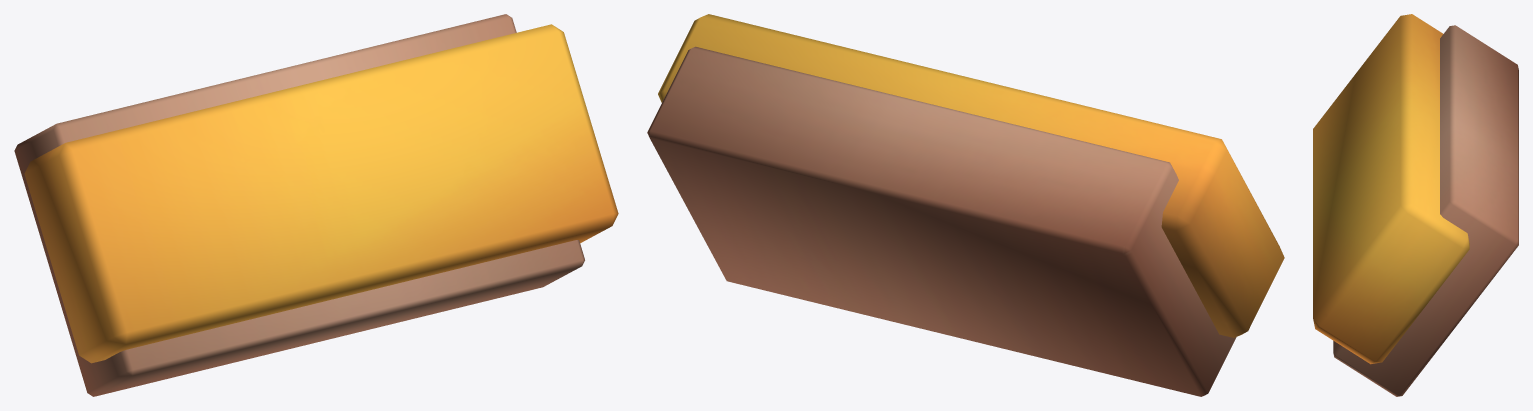
The model's file is FeltEraser.fbx.
The picture shows the model from 3 angles, left to right: view 1: azimuth 30°, elevation 25°; view 2: azimuth 150°, elevation 25°; view 3: azimuth 270°, elevation 25°; orthographic projection. The views are drawn at different scales.
Visible parts, largest first — view 1: FeltEraser; view 2: FeltEraser; view 3: FeltEraser.
Boxes of the visible parts, left/top/right/bottom form: FeltEraser: left=14, top=14, right=618, bottom=396; FeltEraser: left=647, top=14, right=1284, bottom=396; FeltEraser: left=1313, top=14, right=1518, bottom=396.
Bounding box in the file's own units: 0.1856 × 0.4196 × 0.1997.
